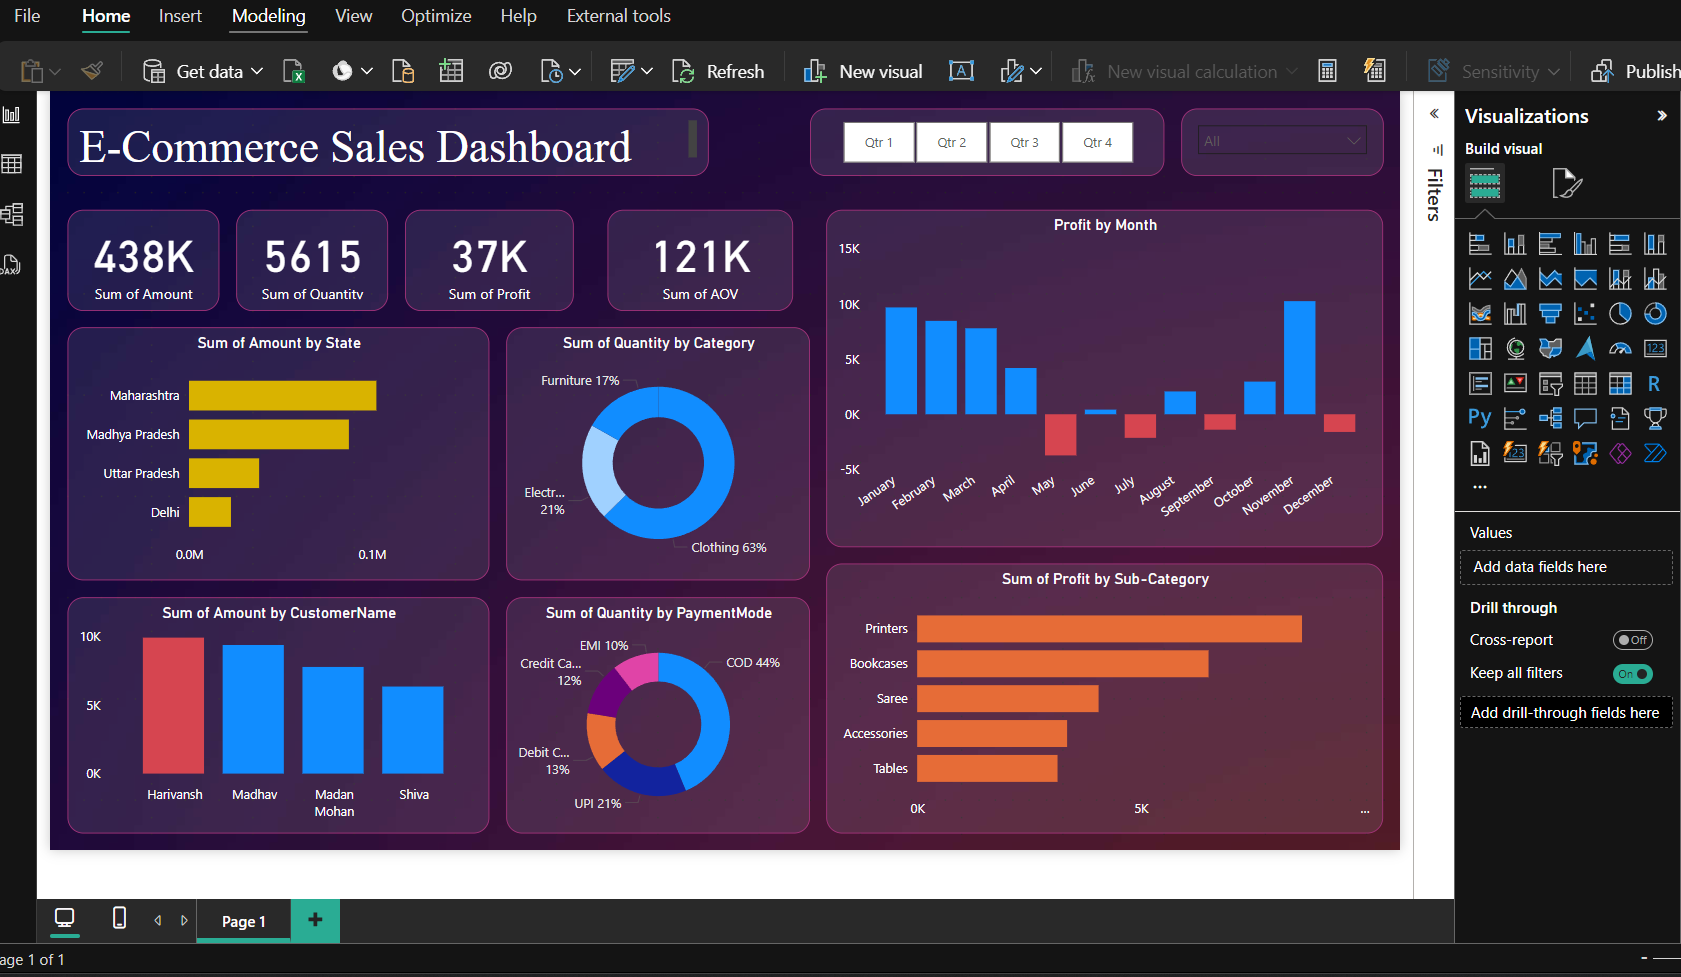

What the dashboard file says about the page in this screenshot:
{"tool":"powerbi","page":{"name":"Page 1","canvas":[1280,720],"ordinal":0},"visuals":[{"type":"textbox","box":[16,16,608,64],"z":0},{"type":"columnChart","title":"Profit by Month","fields":{"Category":["Orders.Order Date.Variation.Date Hierarchy.Month"],"Y":["Details.Profit"]},"box":[736,112,528,320],"z":1000},{"type":"barChart","fields":{"Category":["Details.Sub-Category"],"Y":["Details.Profit"]},"box":[736,448,528,256],"z":2000},{"type":"donutChart","fields":{"Category":["Details.Category"],"Y":["Details.Quantity"]},"box":[432,224,288,240],"z":3000},{"type":"donutChart","fields":{"Y":["Details.Quantity"],"Category":["Details.PaymentMode"]},"box":[432,480,288,224],"z":4000},{"type":"card","fields":{"Values":["Details.Amount"]},"box":[16,112,144,96],"z":5000},{"type":"card","fields":{"Values":["Details.Quantity"]},"box":[176,112,144,96],"z":6000},{"type":"card","fields":{"Values":["Details.Profit"]},"box":[336,112,160,96],"z":7000},{"type":"card","fields":{"Values":["Details.AOV"]},"box":[528,112,176,96],"z":8000},{"type":"barChart","fields":{"Category":["Orders.State"],"Y":["Details.Amount"]},"box":[16,224,400,240],"z":9000},{"type":"columnChart","fields":{"Category":["Orders.CustomerName"],"Y":["Details.Amount"]},"box":[16,480,400,224],"z":10000},{"type":"slicer","fields":{"Values":["Orders.Order Date.Variation.Date Hierarchy.Quarter"]},"box":[720,16,336,64],"z":11000},{"type":"slicer","fields":{"Values":["Orders.State"]},"box":[1072,16,192,64],"z":12000}]}

Visuals, with their boxes on the page's 1280x720 design canvas (x1, y1, x2, y2). These are canvas units, not pixel positions in the 1681x977 screenshot, which may show the page scaled, cropped or inside an application window:
textbox: bbox(16, 16, 624, 80)
"Profit by Month" columnChart: bbox(736, 112, 1264, 432)
barChart - Details.Sub-Category x Details.Profit: bbox(736, 448, 1264, 704)
donutChart - Details.Category x Details.Quantity: bbox(432, 224, 720, 464)
donutChart - Details.Quantity x Details.PaymentMode: bbox(432, 480, 720, 704)
card - Details.Amount: bbox(16, 112, 160, 208)
card - Details.Quantity: bbox(176, 112, 320, 208)
card - Details.Profit: bbox(336, 112, 496, 208)
card - Details.AOV: bbox(528, 112, 704, 208)
barChart - Orders.State x Details.Amount: bbox(16, 224, 416, 464)
columnChart - Orders.CustomerName x Details.Amount: bbox(16, 480, 416, 704)
slicer - Orders.Order Date.Variation.Date Hierarchy.Quarter: bbox(720, 16, 1056, 80)
slicer - Orders.State: bbox(1072, 16, 1264, 80)
